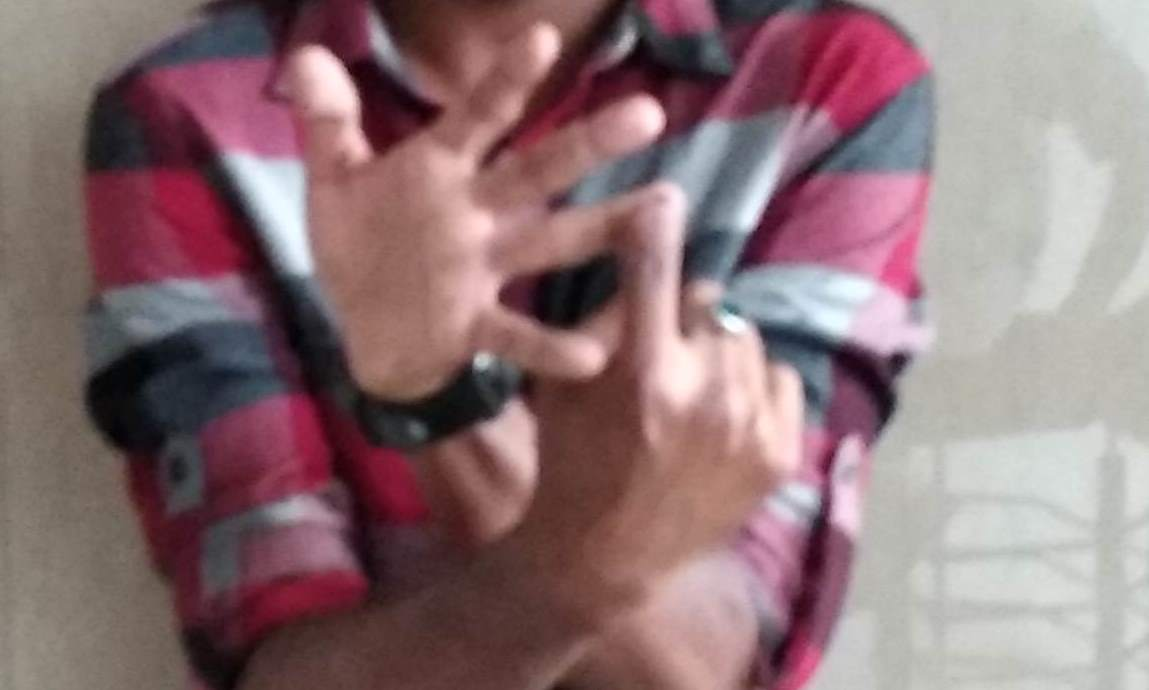e: (323, 59, 782, 436)
